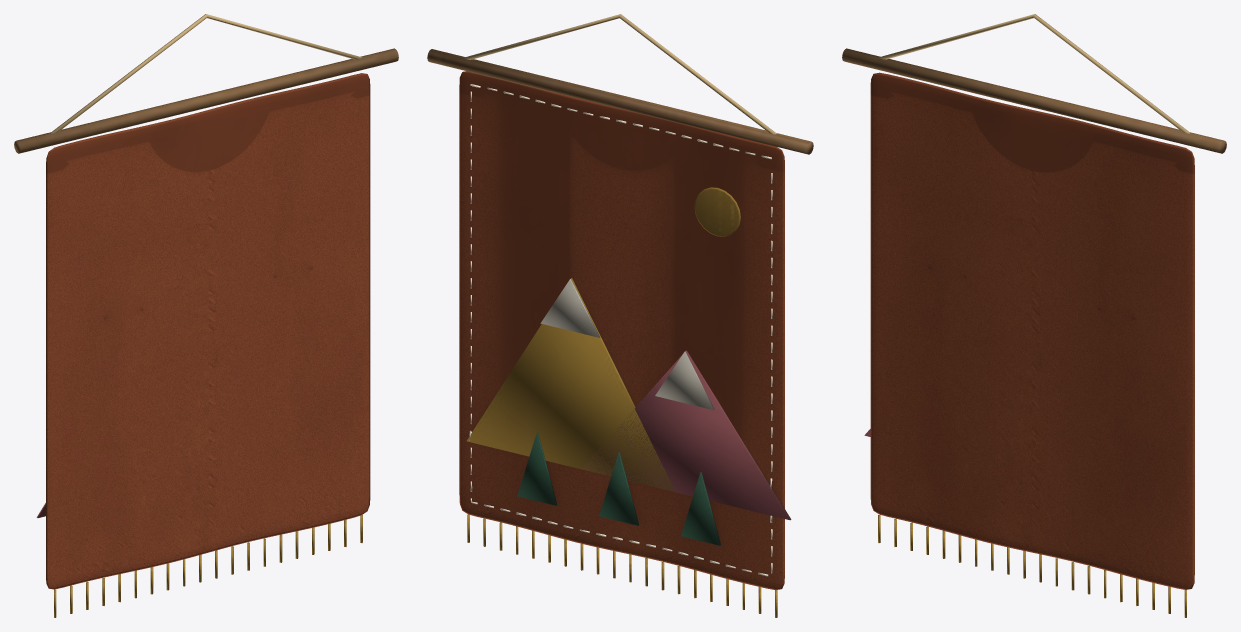
File: tapestry_warm.glb
3 views of the same model, side by side, from view 1: azimuth 30°, elevation 25°; view 2: azimuth 150°, elevation 25°; view 3: azimuth 330°, elevation 25° (orthographic).
Visible parts, largest first — view 1: tapestry_warm_cloth, tapestry_warm_wood, tapestry_warm_felt_mustard, tapestry_warm_hemp; view 2: tapestry_warm_cloth, tapestry_warm_felt_mustard, tapestry_warm_felt_rose, tapestry_warm_wood, tapestry_warm_felt_tree_tall, tapestry_warm_felt_ivory, tapestry_warm_thread, tapestry_warm_hemp; view 3: tapestry_warm_cloth, tapestry_warm_wood, tapestry_warm_felt_mustard, tapestry_warm_hemp.
Part boxes in pixels (x1,y1,x2,y2): tapestry_warm_cloth: (46, 73, 370, 589); tapestry_warm_wood: (14, 48, 398, 153); tapestry_warm_felt_mustard: (54, 515, 362, 617); tapestry_warm_hemp: (51, 14, 362, 133); tapestry_warm_cloth: (459, 71, 784, 589); tapestry_warm_felt_mustard: (466, 187, 777, 617); tapestry_warm_felt_rose: (581, 350, 791, 520); tapestry_warm_wood: (427, 49, 813, 154); tapestry_warm_felt_tree_tall: (517, 432, 720, 545); tapestry_warm_felt_ivory: (540, 279, 714, 410); tapestry_warm_thread: (469, 84, 772, 576); tapestry_warm_hemp: (464, 14, 776, 134); tapestry_warm_cloth: (870, 72, 1194, 589); tapestry_warm_wood: (842, 48, 1226, 153); tapestry_warm_felt_mustard: (878, 515, 1186, 617); tapestry_warm_hemp: (878, 14, 1189, 133).
Size of the model in its own units: 2.32 by 3.31 by 0.072.
8 materials, 6 textured.
